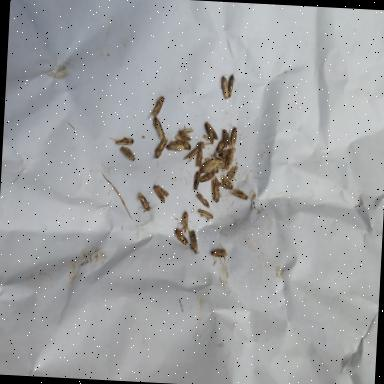pbw: (136, 192, 158, 214), (150, 181, 170, 204), (150, 136, 168, 160), (148, 95, 164, 121), (202, 120, 219, 144), (186, 229, 202, 254), (174, 224, 190, 246), (219, 174, 235, 196), (151, 117, 166, 140), (228, 188, 252, 202), (210, 176, 222, 202), (218, 74, 230, 100), (183, 145, 199, 164), (210, 245, 228, 261), (204, 157, 220, 174), (119, 146, 137, 161), (108, 136, 134, 146), (228, 122, 238, 148), (174, 136, 192, 150), (178, 127, 194, 142), (164, 140, 184, 152), (218, 147, 236, 160), (197, 208, 214, 221), (227, 74, 236, 98), (196, 193, 210, 208), (220, 129, 231, 148), (225, 148, 234, 170), (199, 172, 215, 184), (192, 170, 201, 190), (181, 210, 189, 232), (210, 159, 226, 169), (196, 148, 204, 168), (216, 138, 226, 154)
